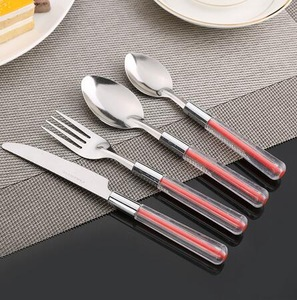knief: (3, 134, 226, 264)
